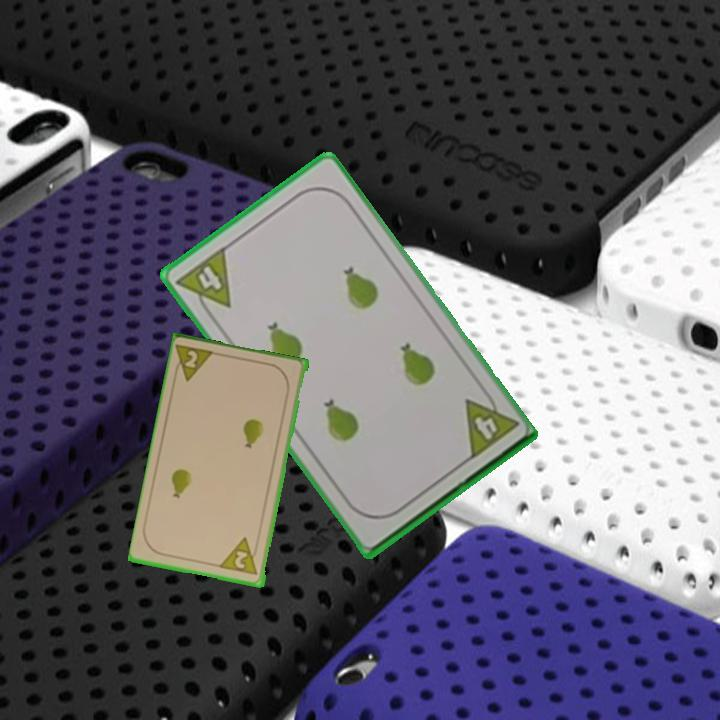2p: (170, 341, 219, 385), (218, 534, 261, 579)
4p: (172, 243, 234, 323), (460, 384, 520, 463)
